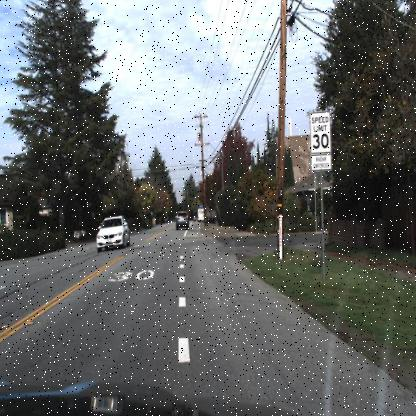car: (93, 213, 130, 255), (173, 207, 190, 235), (196, 204, 206, 223)
